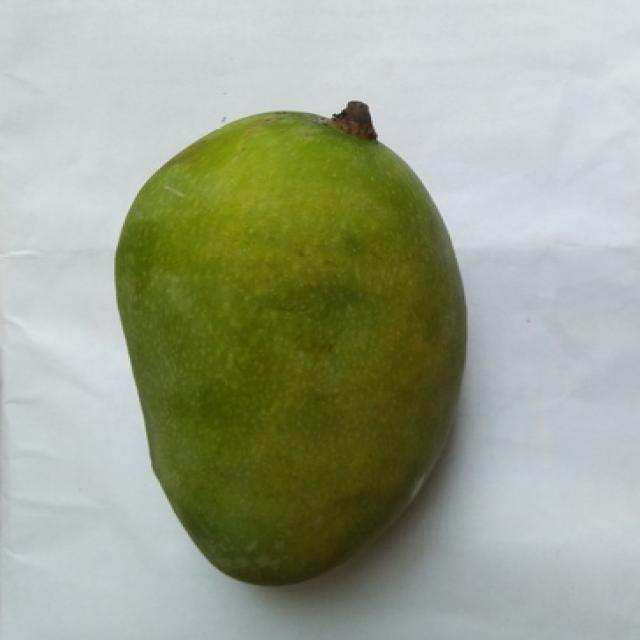Mango: (116, 113, 464, 584)
